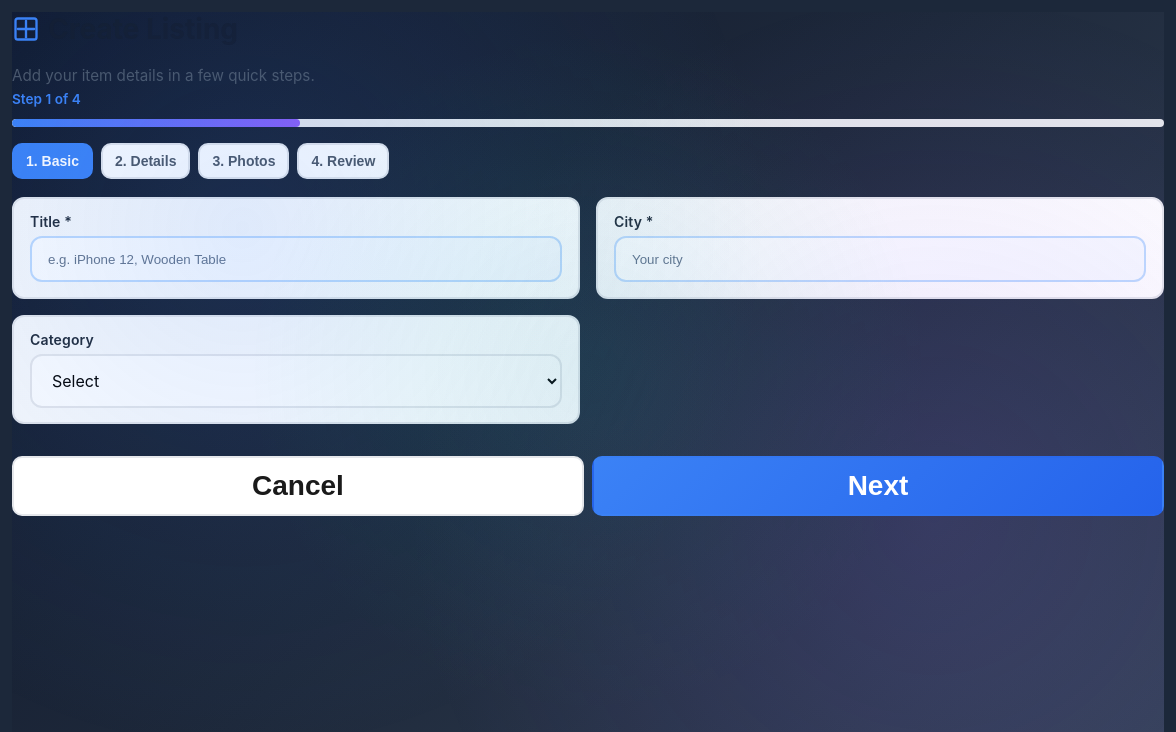
Scenario: CreateListing › validates required fields before advancing
The width and height of the screenshot is (1176, 732).
Step 1. Click the button "Next" → click(878, 486), box [592, 456, 1164, 516]
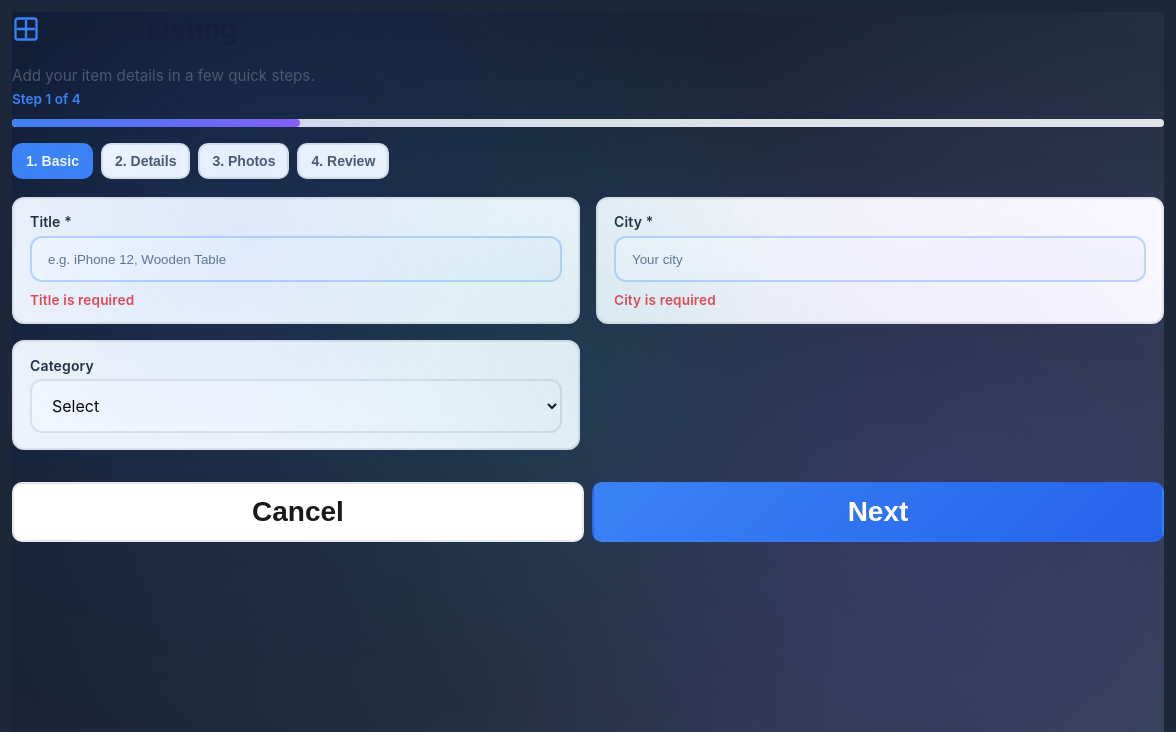
Expected: the text "City is required" is shown, [614, 292, 716, 308]
